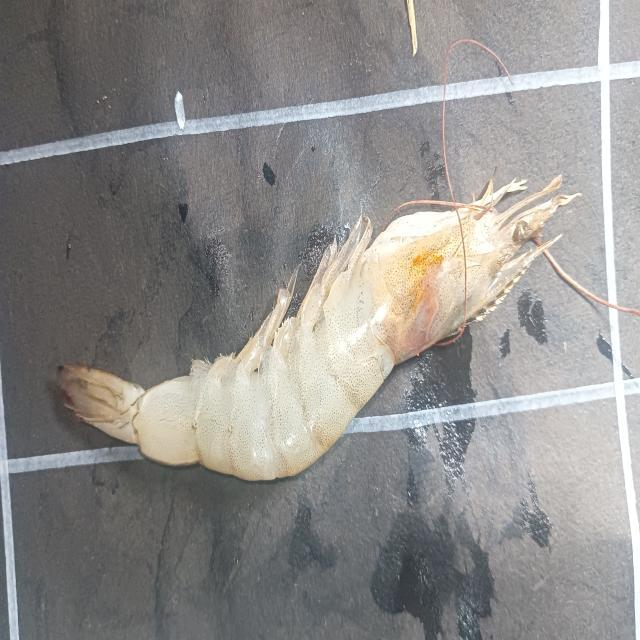shrimp: (59, 175, 571, 480)
